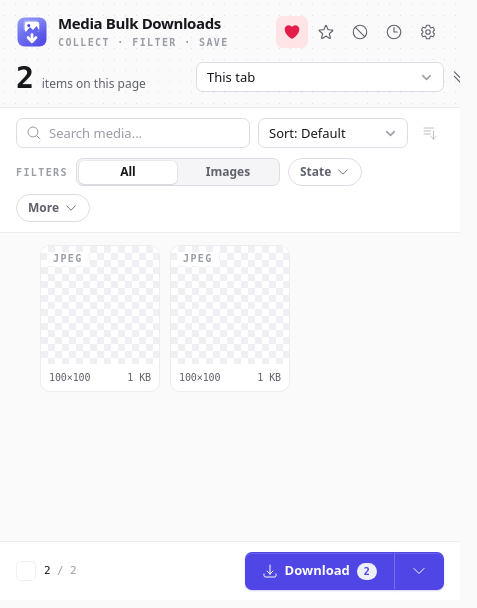
Test case: App Component › sends a bulk download request and reflects the response
Check: the text "Filters" is shown, box [16,165,68,180]
Click the button "Download 2": (319, 571) [245,552,394,590]
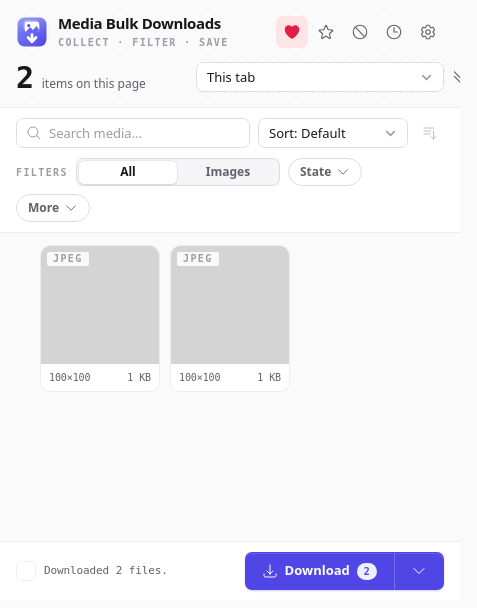
Check: the text "Downloaded 2 files." is shown, box [44,563,168,579]
